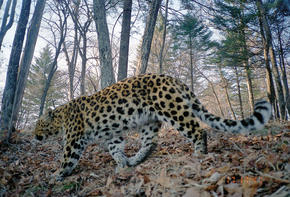amur_leopard: (32, 75, 278, 181)
